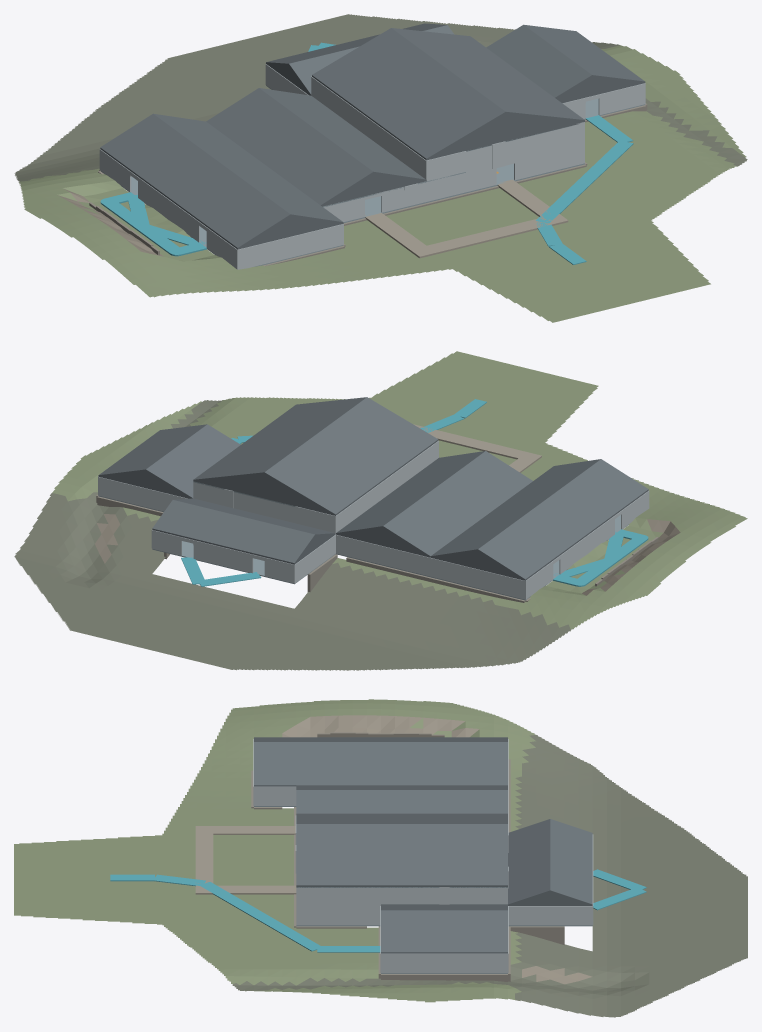
Rendered from constructed-circulation.glb.
3 views of the same model, one above another, from view 1: azimuth 30°, elevation 25°; view 2: azimuth 150°, elevation 25°; view 3: azimuth 270°, elevation 25° (orthographic). The views are drawn at different scales.
Visible parts, largest first — view 1: Saved editor circulation terrain WLD-13, processing-hall roof west, crew-mess-and-bunks roof west, boiler-and-wash roof west, processing-hall roof east, crew-mess-and-bunks roof east, boiler-and-wash roof east, cold-store roof west, Entrance rebuild WLD-13 continuous approach pavement region1, Entrance rebuild WLD-13 processing S end, processing-hall gable south, cold-store roof east (+20 smaller); view 2: Saved editor circulation terrain WLD-13, processing-hall roof west, crew-mess-and-bunks roof west, boiler-and-wash roof west, office-and-stores roof north, processing-hall roof east, crew-mess-and-bunks roof east, cold-store roof west, boiler-and-wash roof east, cold-store roof east, processing-hall gable north, Wall mess N (+19 smaller); view 3: Saved editor circulation terrain WLD-13, processing-hall roof east, crew-mess-and-bunks roof east, cold-store roof east, boiler-and-wash roof east, Entrance rebuild WLD-13 processing E end, office-and-stores roof south, office-and-stores roof north, Wall cold E, Entrance rebuild WLD-13 continuous approach pavement region1, processing-hall roof west, Wall stores E (+7 smaller).
Part boxes in pixels (left/top/right/bottom): Saved editor circulation terrain WLD-13: left=14, top=14, right=747, bottom=322; processing-hall roof west: left=312, top=28, right=505, bottom=159; crew-mess-and-bunks roof west: left=100, top=114, right=290, bottom=249; boiler-and-wash roof west: left=206, top=88, right=373, bottom=205; processing-hall roof east: left=392, top=28, right=584, bottom=121; crew-mess-and-bunks roof east: left=153, top=113, right=343, bottom=223; boiler-and-wash roof east: left=259, top=88, right=425, bottom=180; cold-store roof west: left=486, top=25, right=592, bottom=98; Entrance rebuild WLD-13 continuous approach pavement region1: left=365, top=179, right=568, bottom=258; Entrance rebuild WLD-13 processing S end: left=514, top=122, right=584, bottom=180; processing-hall gable south: left=426, top=113, right=584, bottom=160; cold-store roof east: left=524, top=25, right=645, bottom=82; Saved editor circulation terrain WLD-13: left=14, top=351, right=747, bottom=670; processing-hall roof west: left=264, top=397, right=438, bottom=515; crew-mess-and-bunks roof west: left=478, top=459, right=648, bottom=580; boiler-and-wash roof west: left=383, top=451, right=532, bottom=557; office-and-stores roof north: left=152, top=500, right=314, bottom=564; processing-hall roof east: left=193, top=397, right=366, bottom=480; crew-mess-and-bunks roof east: left=430, top=459, right=600, bottom=557; cold-store roof west: left=146, top=424, right=240, bottom=498; boiler-and-wash roof east: left=336, top=451, right=484, bottom=534; cold-store roof east: left=98, top=424, right=206, bottom=476; processing-hall gable north: left=193, top=473, right=336, bottom=515; Wall mess N: left=430, top=557, right=525, bottom=599; Saved editor circulation terrain WLD-13: left=14, top=699, right=747, bottom=1017; processing-hall roof east: left=296, top=824, right=507, bottom=886; crew-mess-and-bunks roof east: left=254, top=742, right=507, bottom=786; cold-store roof east: left=381, top=910, right=507, bottom=953; boiler-and-wash roof east: left=296, top=790, right=507, bottom=813; Entrance rebuild WLD-13 processing E end: left=296, top=887, right=436, bottom=925; office-and-stores roof south: left=508, top=819, right=550, bottom=905; office-and-stores roof north: left=550, top=819, right=592, bottom=905; Wall cold E: left=381, top=953, right=507, bottom=973; Entrance rebuild WLD-13 continuous approach pavement region1: left=195, top=826, right=296, bottom=894; processing-hall roof west: left=296, top=813, right=507, bottom=823; Wall stores E: left=508, top=906, right=592, bottom=925.
Bounding box in the file's own units: 97 × 15.43 × 104.
